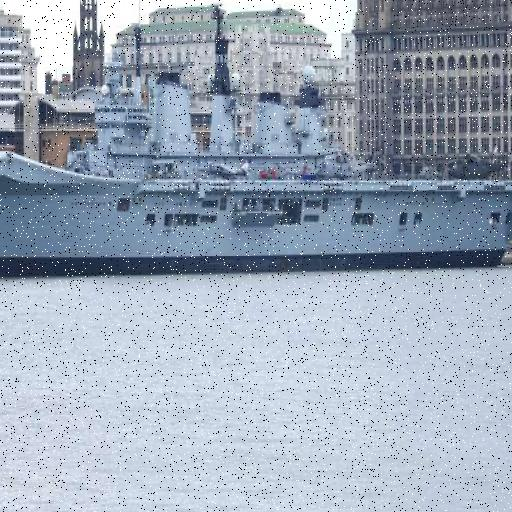Portanaves: (1, 1, 512, 279)
